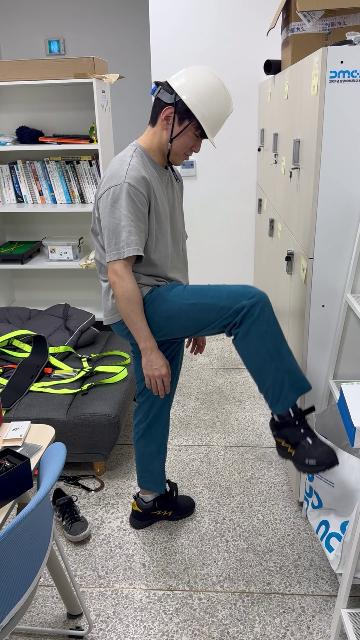helmet_worn: (163, 65, 234, 148)
shoe_not_worn: (50, 487, 91, 542)
shoe_worn: (270, 405, 338, 474), (129, 479, 196, 529)
vest_not_worn: (97, 145, 193, 333)
